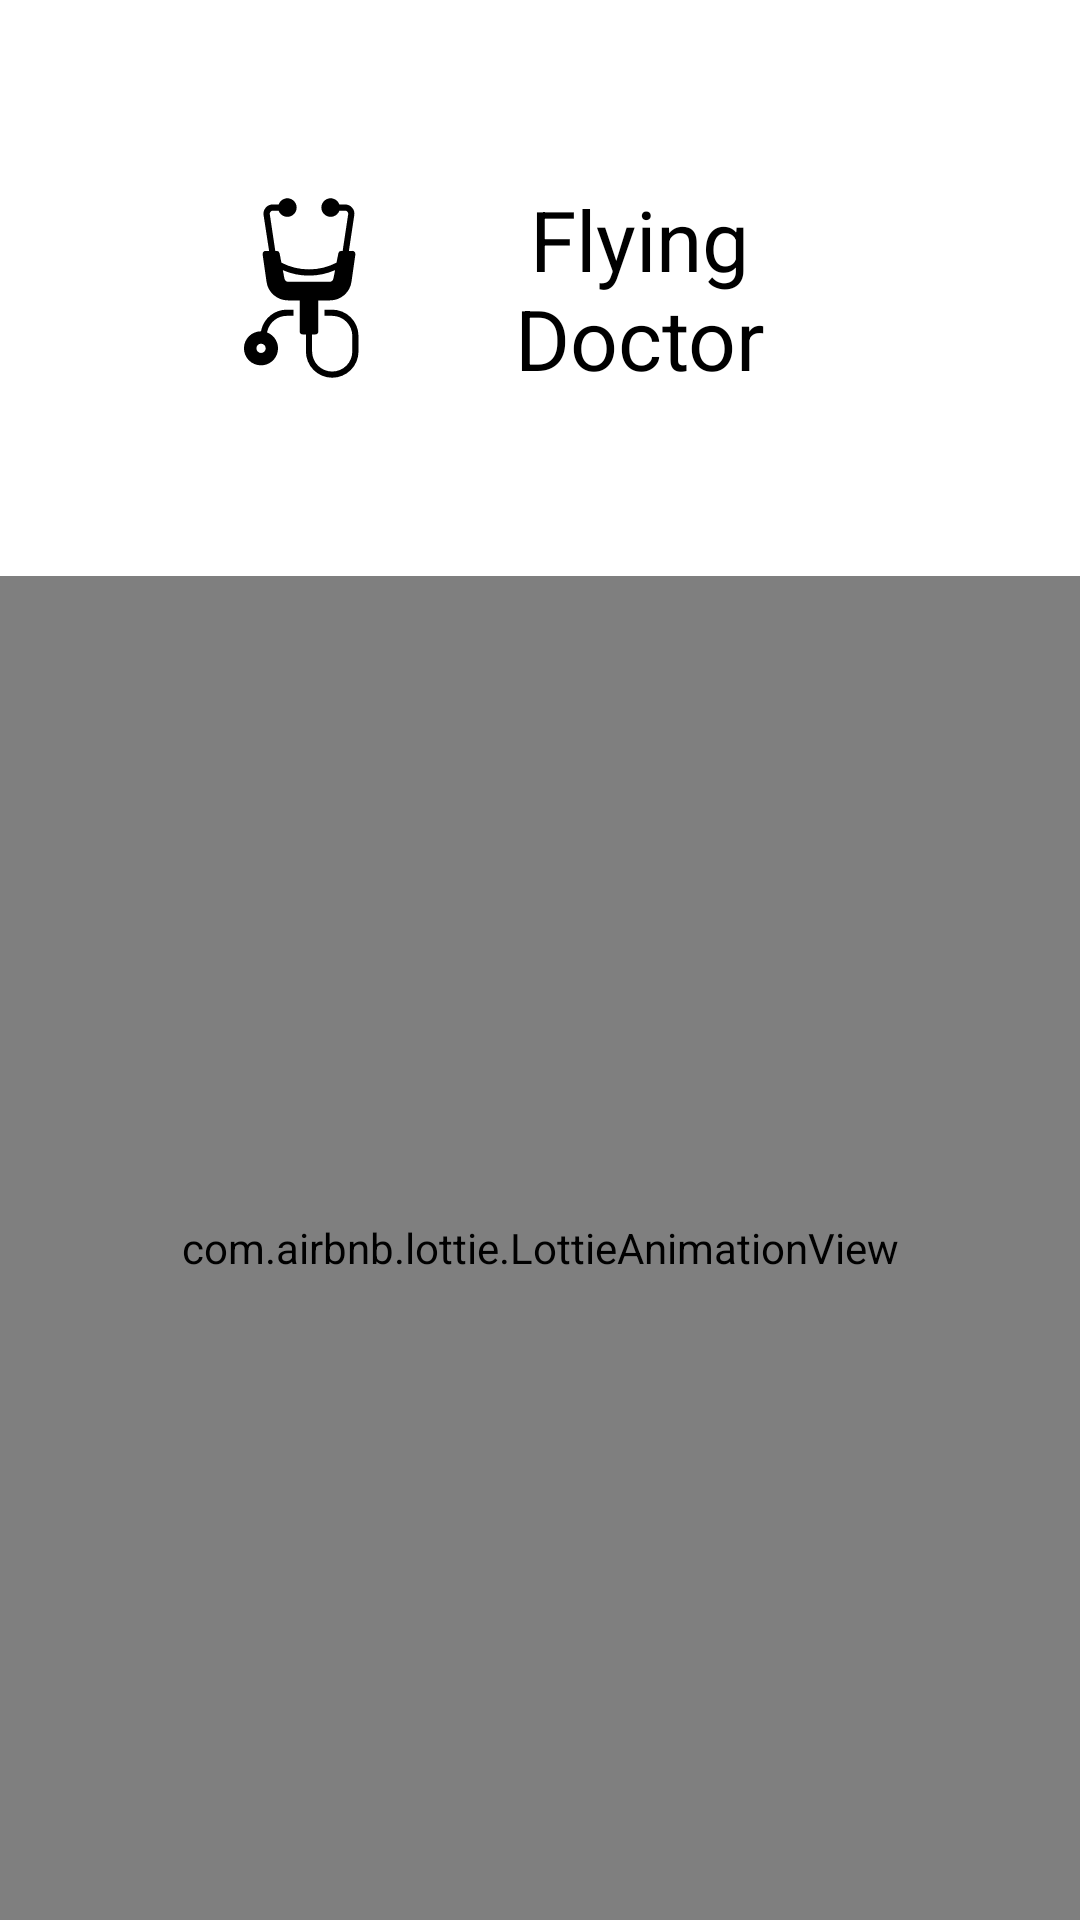

Screen size 1080 × 1920. Icon name, then its center in pixels as point (x, y):
stethoscope: point (301, 288)
